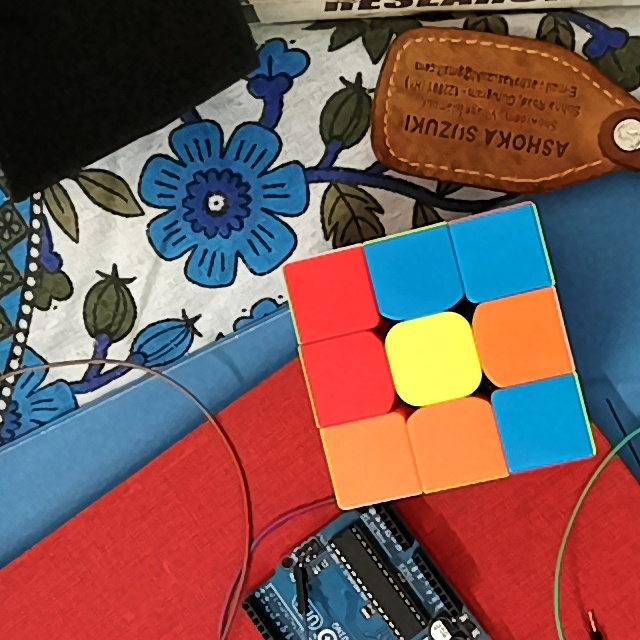tile: (421, 410, 490, 477), (488, 306, 558, 372), (399, 328, 469, 392), (508, 391, 575, 455), (380, 242, 447, 305), (469, 223, 534, 286), (339, 428, 405, 490), (299, 263, 362, 327), (317, 347, 381, 409)
